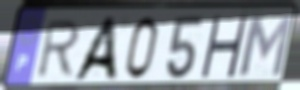0: (124, 15, 160, 81)
5: (164, 14, 206, 82)
A: (69, 15, 120, 83)
H: (198, 14, 250, 79)
M: (237, 12, 295, 79)
R: (33, 18, 83, 81)
